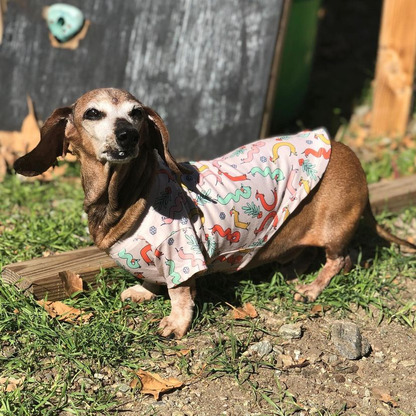dachshund: (33, 81, 395, 332)
